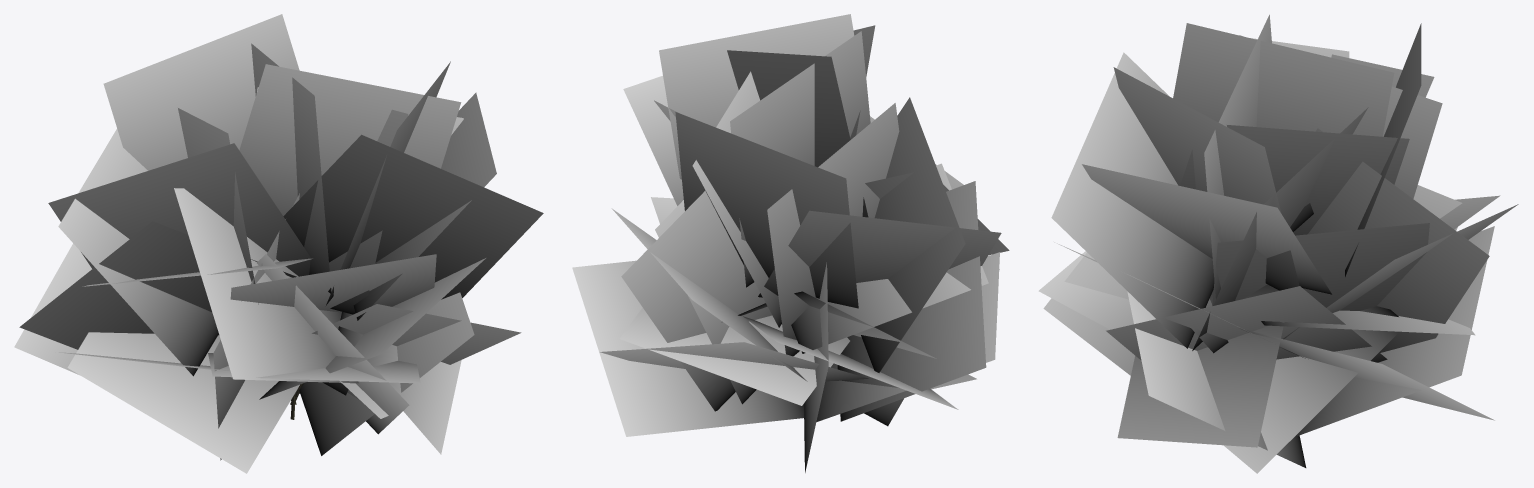
Rendered from tree9B.fbx.
The picture shows the model from 3 angles, left to right: view 1: azimuth 30°, elevation 25°; view 2: azimuth 150°, elevation 25°; view 3: azimuth 270°, elevation 25°; orthographic projection. The views are drawn at different scales.
Parts seen in each view (by area): view 1: Tree9b_leafs, Tree9b_leafs_flip; view 2: Tree9b_leafs, Tree9b_leafs_flip; view 3: Tree9b_leafs, Tree9b_leafs_flip.
Boxes of the visible parts, bbox=[...] form: Tree9b_leafs: bbox=[14, 14, 543, 473]; Tree9b_leafs_flip: bbox=[16, 15, 542, 465]; Tree9b_leafs: bbox=[572, 14, 1009, 472]; Tree9b_leafs_flip: bbox=[572, 17, 1000, 465]; Tree9b_leafs: bbox=[1038, 14, 1518, 473]; Tree9b_leafs_flip: bbox=[1042, 26, 1516, 466].
Size of the model in its own units: 7 by 6.19 by 6.72.
